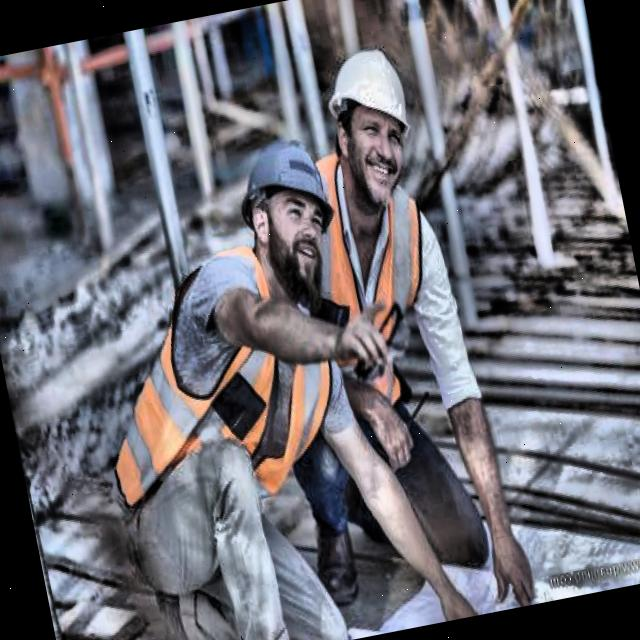helmet: (309, 25, 436, 213), (225, 125, 352, 300)
